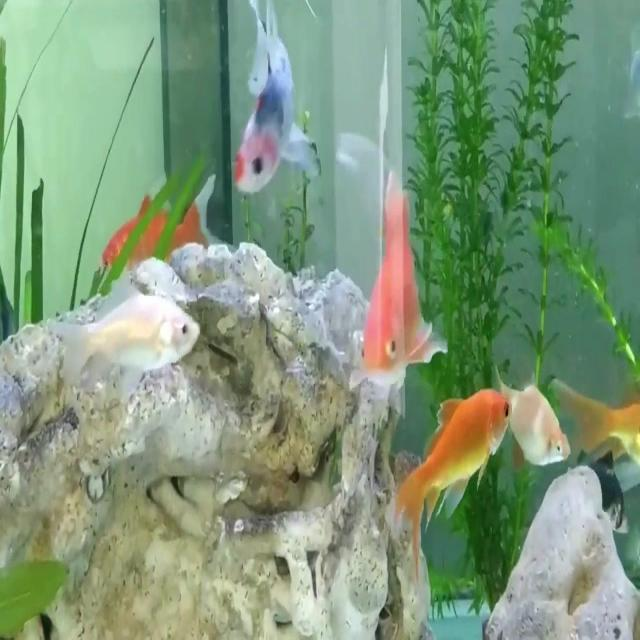GoldFish: (344, 157, 457, 424), (389, 373, 519, 589), (48, 266, 214, 418)
